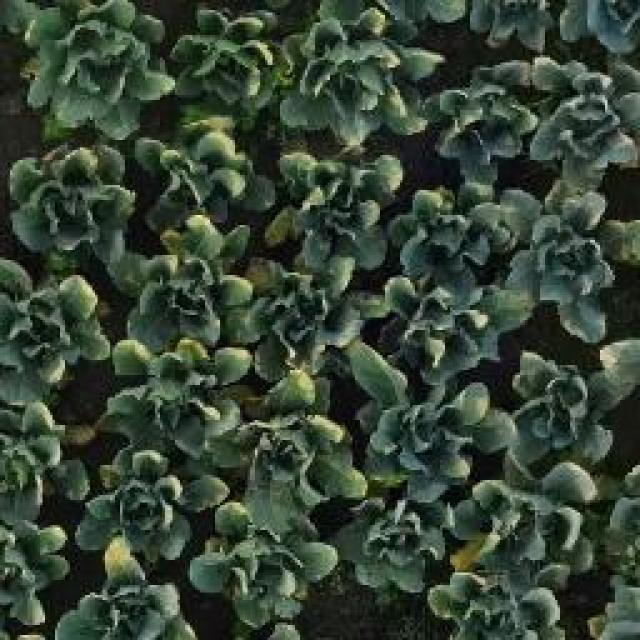cabbage: (498, 178, 640, 336), (353, 357, 515, 488), (22, 0, 175, 132), (280, 8, 436, 134), (442, 459, 598, 582), (242, 255, 376, 384), (118, 225, 255, 351), (75, 440, 217, 559), (265, 142, 405, 262), (512, 340, 640, 470), (6, 138, 138, 262), (0, 253, 112, 397), (138, 112, 262, 231), (53, 542, 202, 640), (375, 269, 506, 373), (210, 500, 322, 618), (391, 177, 509, 285), (171, 4, 289, 110), (526, 76, 640, 179), (428, 76, 534, 184), (340, 489, 446, 596), (429, 568, 569, 640), (121, 340, 222, 436), (245, 401, 342, 495)
